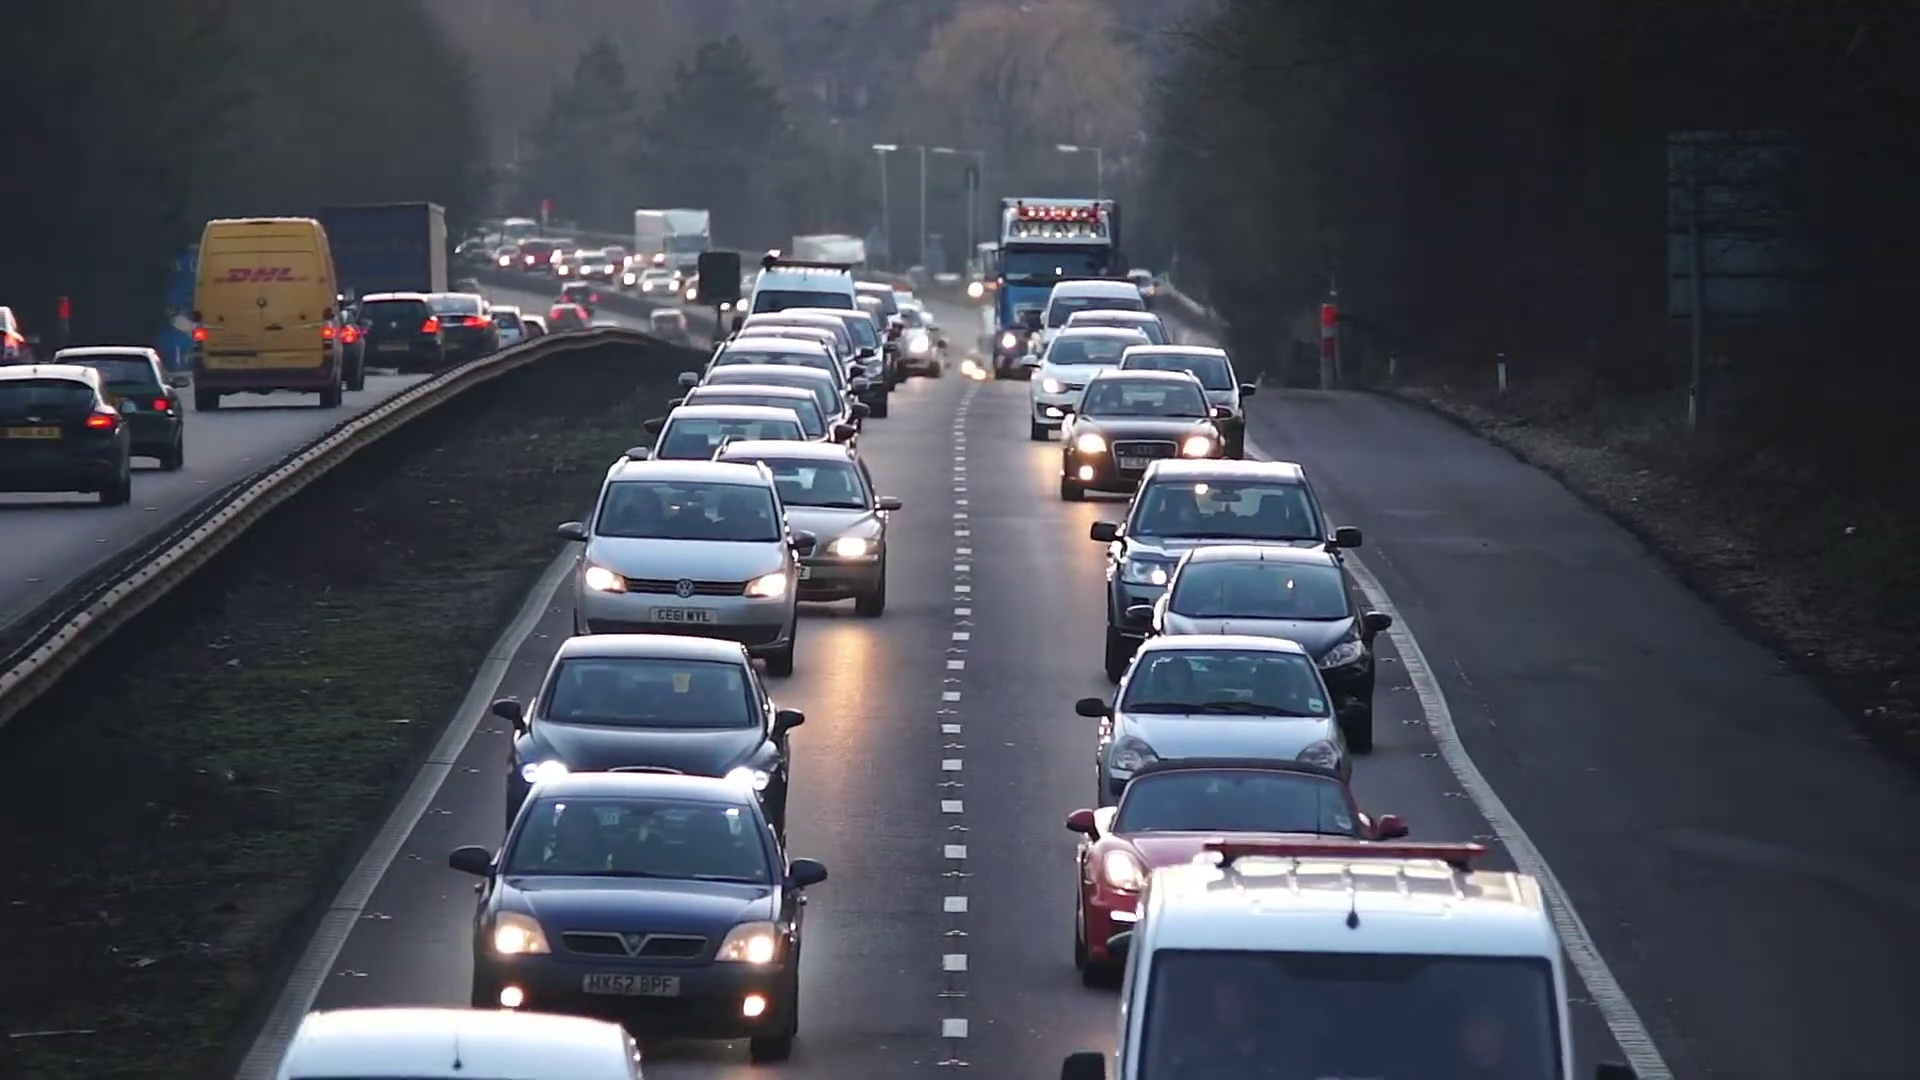license_plate: (577, 970, 681, 997), (644, 601, 716, 630)
